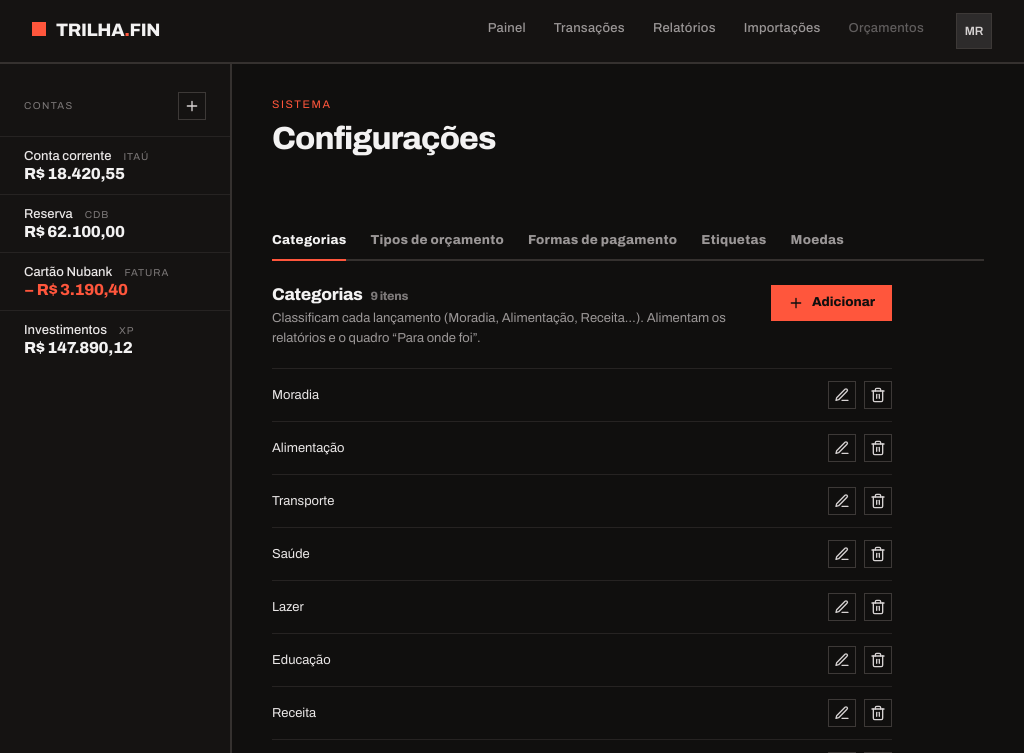
SettingsScreen › edita um item pelo mesmo modal
Step 1. Click the button named "editar Moradia" → coordinates (842, 395), box [828,381,856,409]
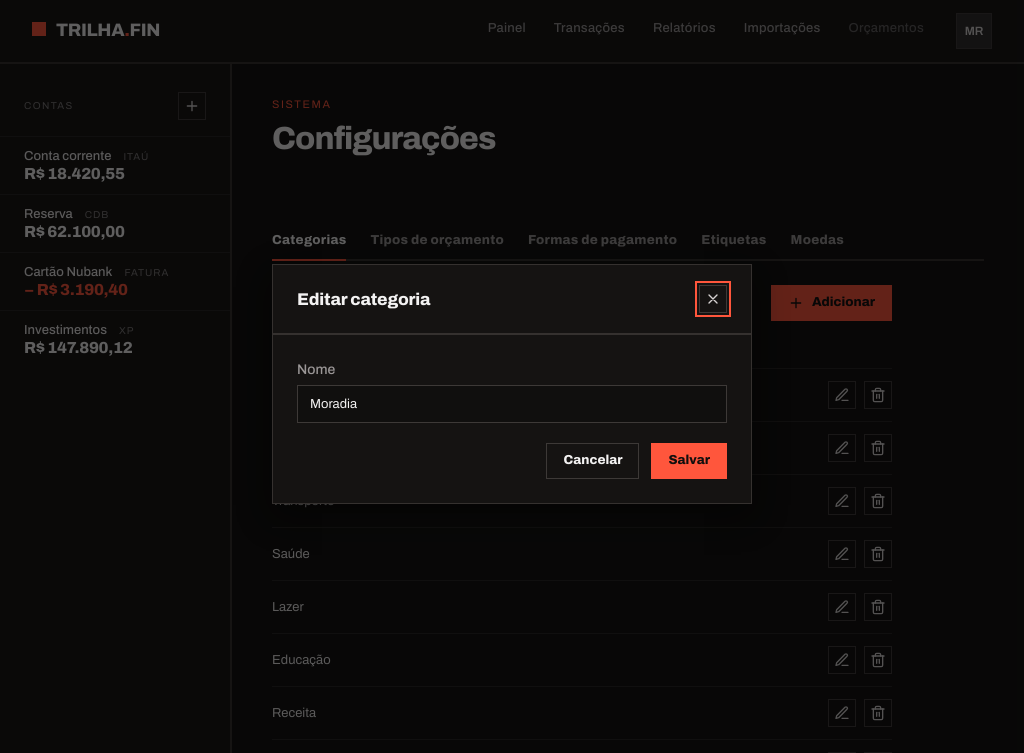
Check: the heading "Editar categoria" is shown, box [297,290,430,309]
Step 2. Replace the text in the field labelled "Nome" with "Habitação" → coordinates (512, 404), box [297,385,727,423]
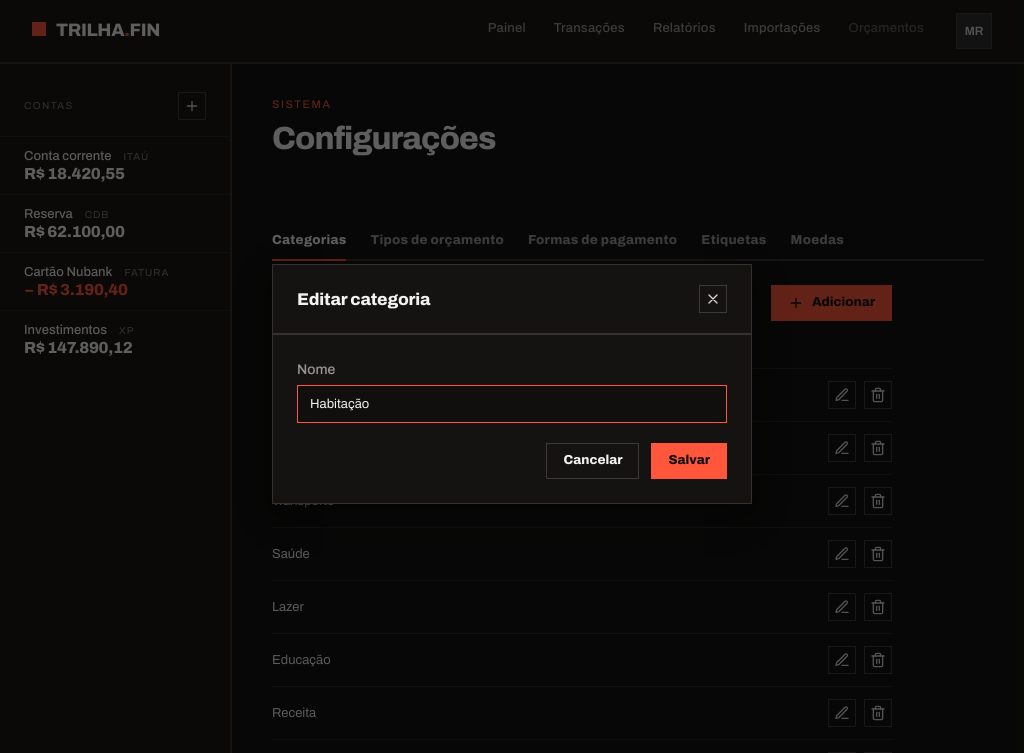
Step 3. Click the button "Salvar" → coordinates (689, 461), box [652,443,727,479]
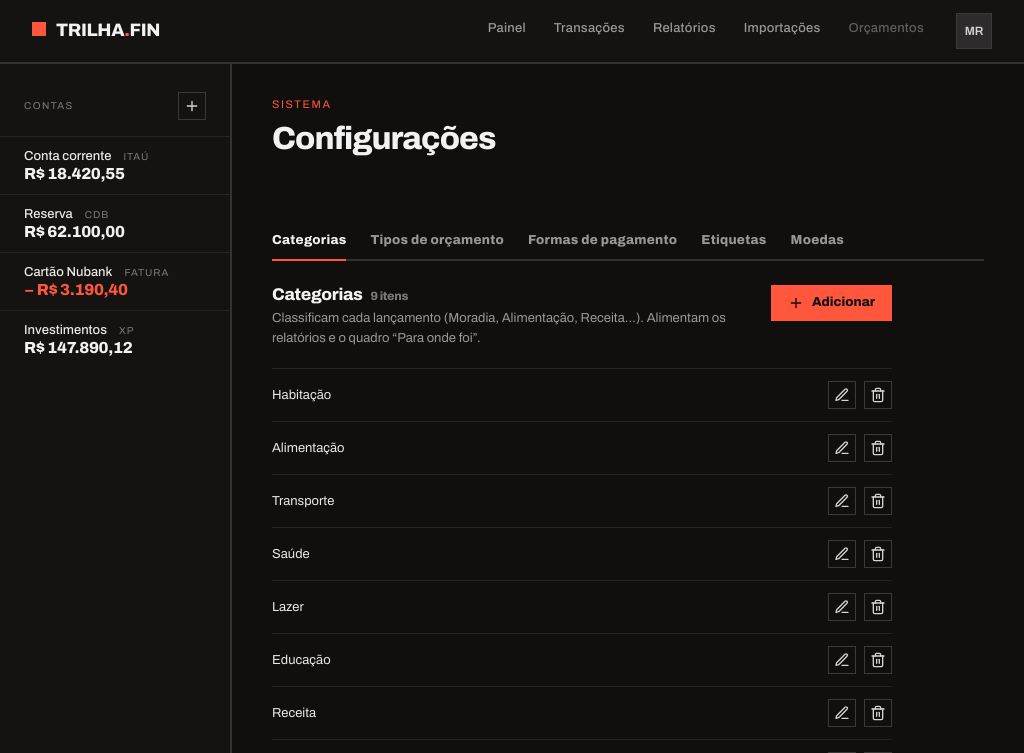
Check: the dialog is gone
Check: the text "Habitação" is shown, box [272,388,331,402]
